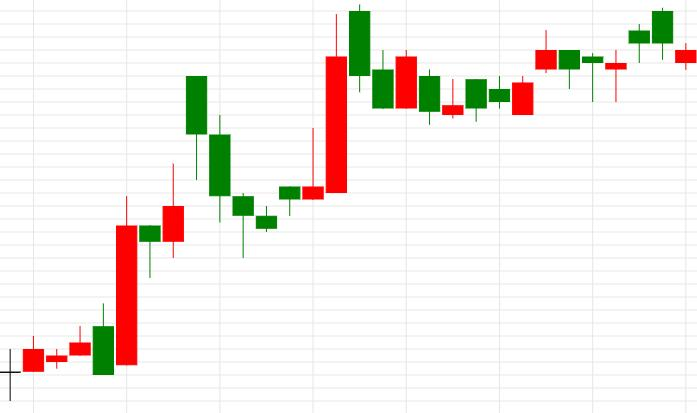bearish_engulfing_fall: (0, 302, 114, 401)
three_black_crows_fall: (92, 75, 254, 375)
